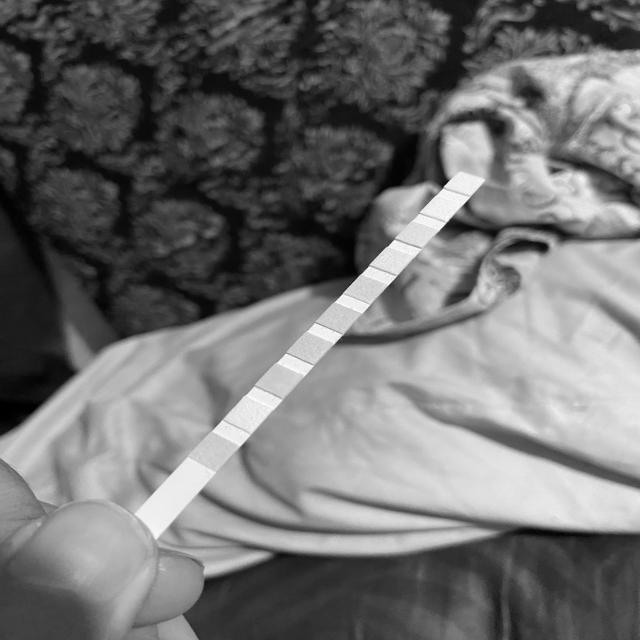Bilirubin: (235, 406, 263, 422)
Blood: (326, 310, 351, 326)
Glucose: (201, 442, 227, 461)
Ketone: (267, 371, 295, 390)
Leukocytes: (453, 178, 477, 191)
Nitrite: (429, 202, 454, 215)
Protein: (379, 253, 406, 267)
SpGravity: (296, 340, 326, 356)
Urobilinogen: (406, 228, 430, 242)
background: (0, 0, 640, 640)
pH: (353, 282, 379, 297)
strip: (135, 173, 484, 528)
